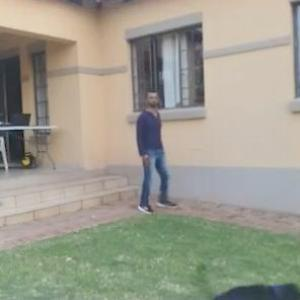follow: (133, 84, 172, 216)
